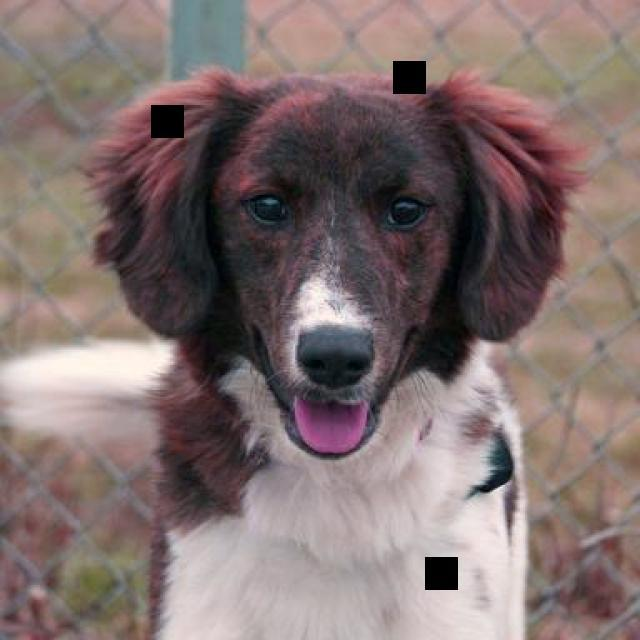adult_dog: (1, 68, 583, 640)
